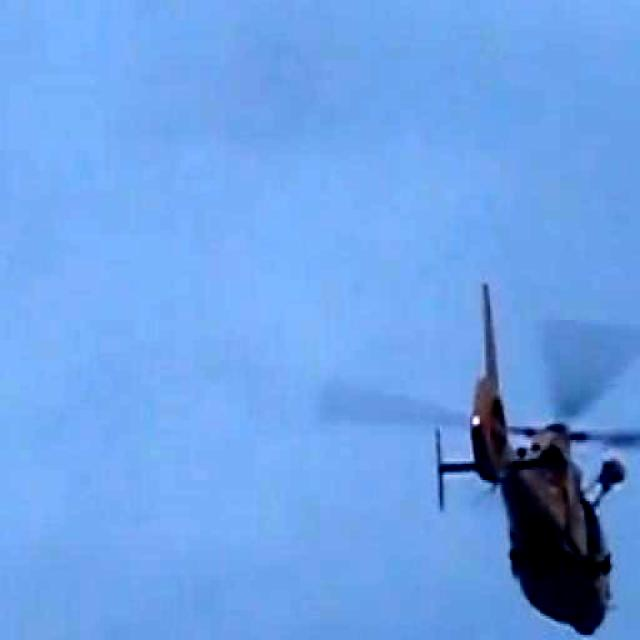drone: (431, 264, 640, 632)
